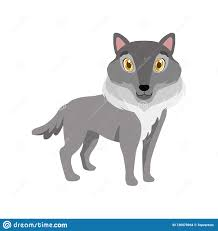Lobo: (30, 25, 187, 189)
